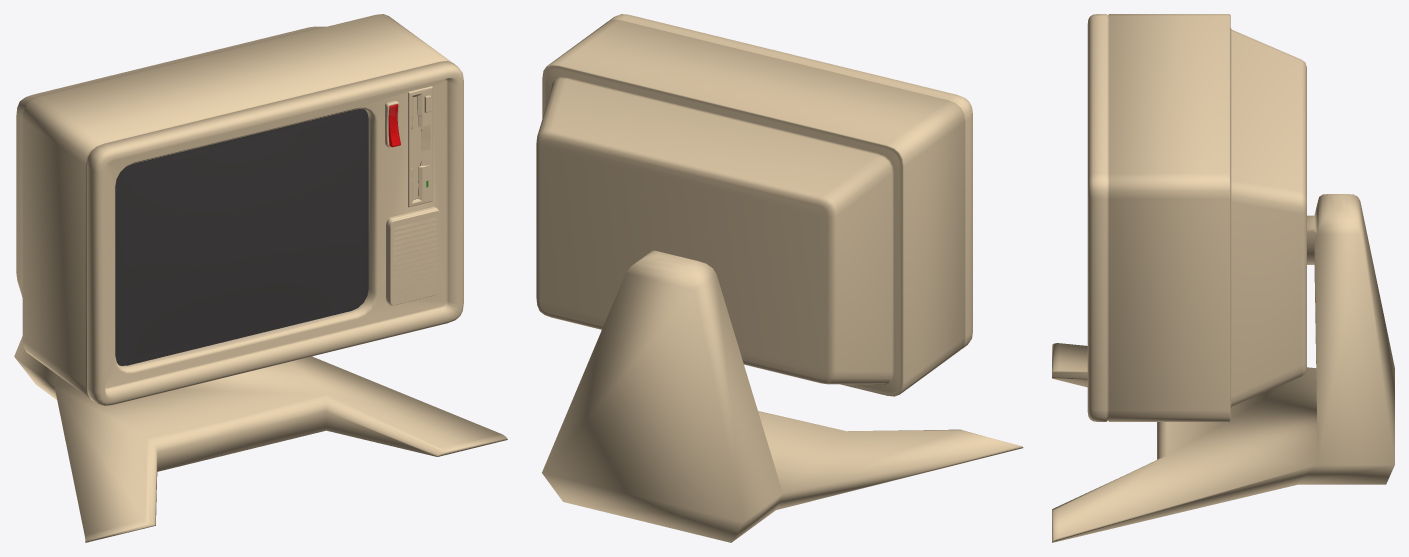
The model's file is OldMonitorLandscape.fbx.
3 views of the same model, side by side, from view 1: azimuth 30°, elevation 25°; view 2: azimuth 150°, elevation 25°; view 3: azimuth 270°, elevation 25° (orthographic). The views are drawn at different scales.
Parts seen in each view (by area): view 1: Compy, Glass, CRTBackplane, Stand, Speaker, Drive, DriveFlap; view 2: Compy, Stand; view 3: Compy, Stand.
Boxes of the visible parts, x1,y1,x2,y2 form: Compy: [16, 14, 463, 405]; Glass: [116, 109, 369, 365]; CRTBackplane: [115, 109, 368, 365]; Stand: [14, 336, 507, 542]; Speaker: [386, 206, 440, 305]; Drive: [408, 86, 432, 207]; DriveFlap: [411, 96, 420, 199]; Compy: [536, 14, 972, 396]; Stand: [542, 250, 1023, 542]; Compy: [1087, 14, 1306, 421]; Stand: [1052, 194, 1394, 542].
Size of the model in its own units: 49 by 40.68 by 36.
